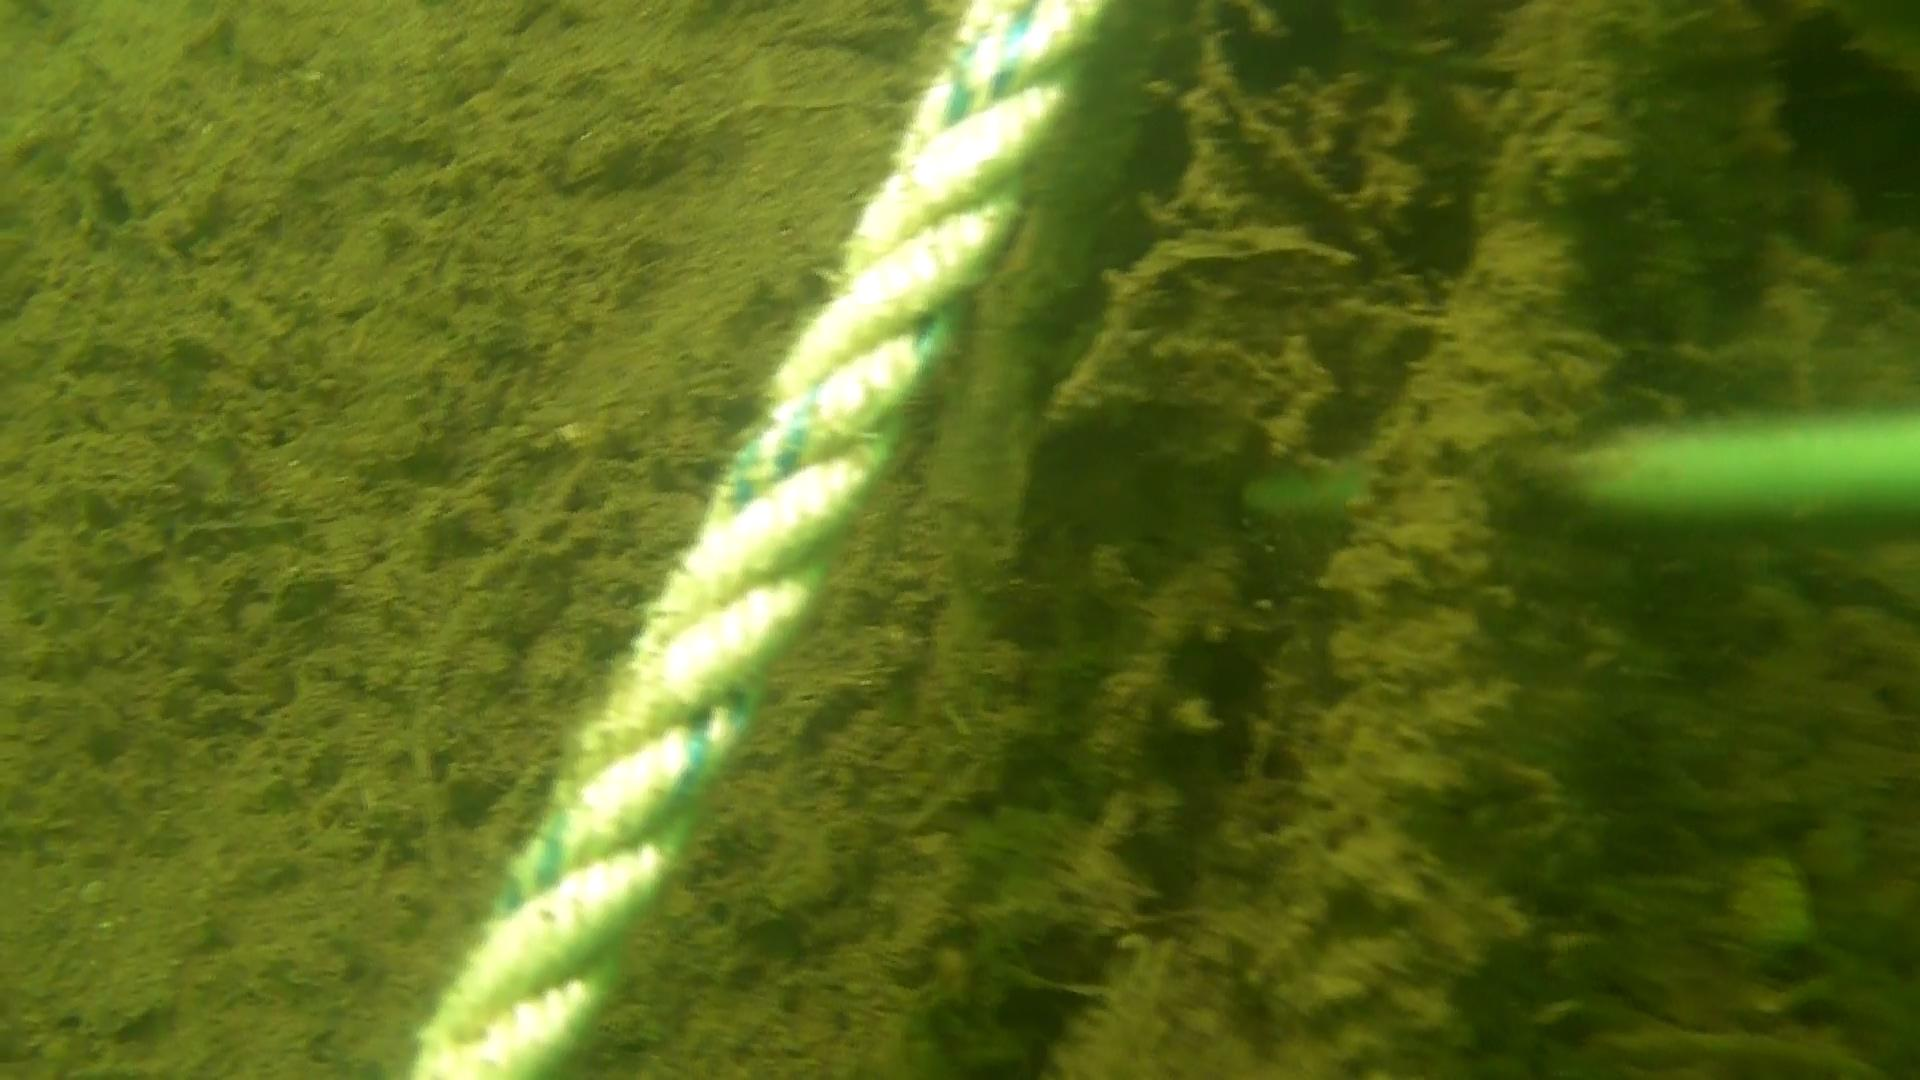rope: (411, 0, 1109, 1080)
